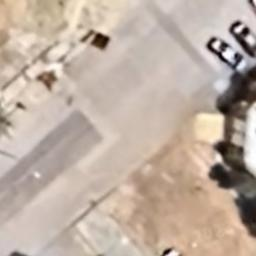sedan: (205, 36, 247, 72), (227, 18, 256, 58)
